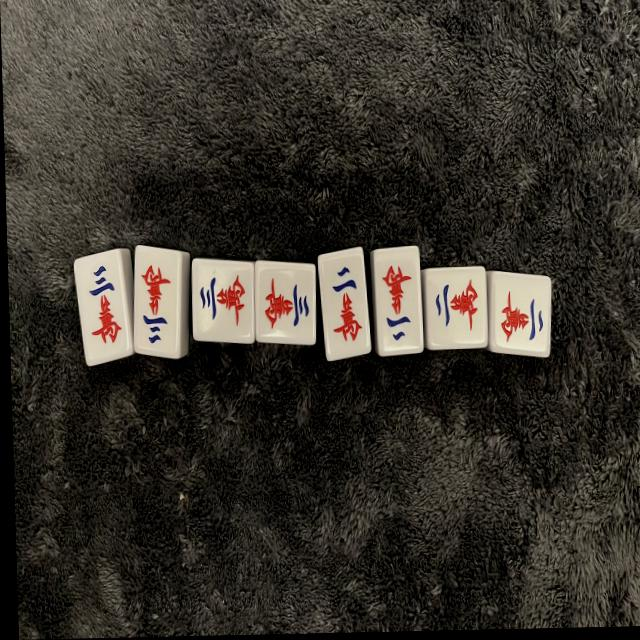m2: (319, 250, 371, 362), (492, 274, 554, 354), (426, 271, 487, 347), (376, 250, 420, 345)
m3: (73, 251, 133, 367), (133, 247, 189, 357), (192, 261, 257, 344), (255, 263, 313, 339)
